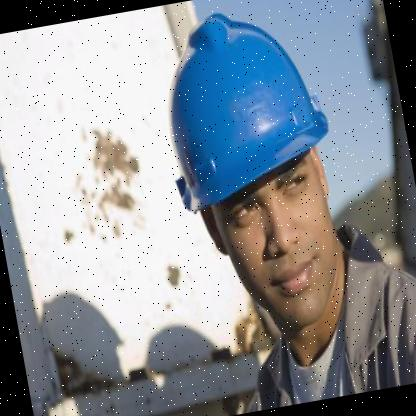capacete: (141, 0, 346, 224)
